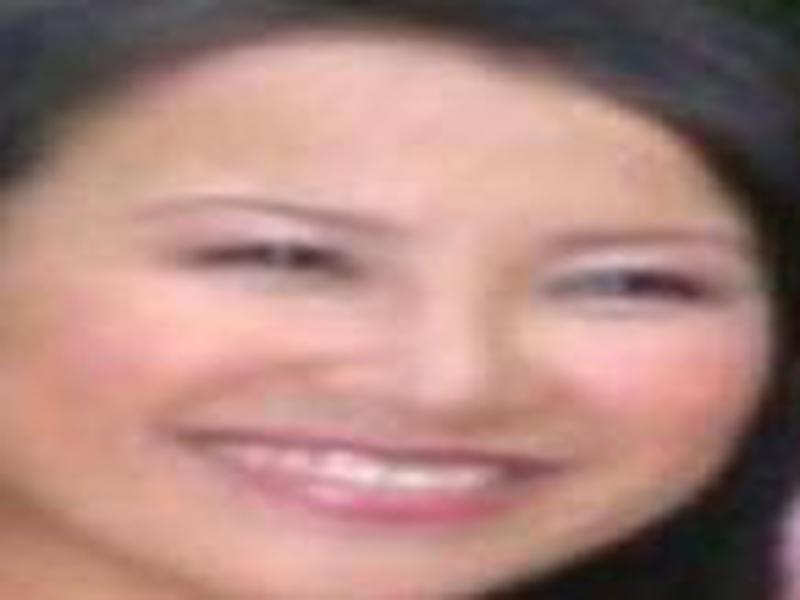without_mask: (25, 65, 778, 600)
